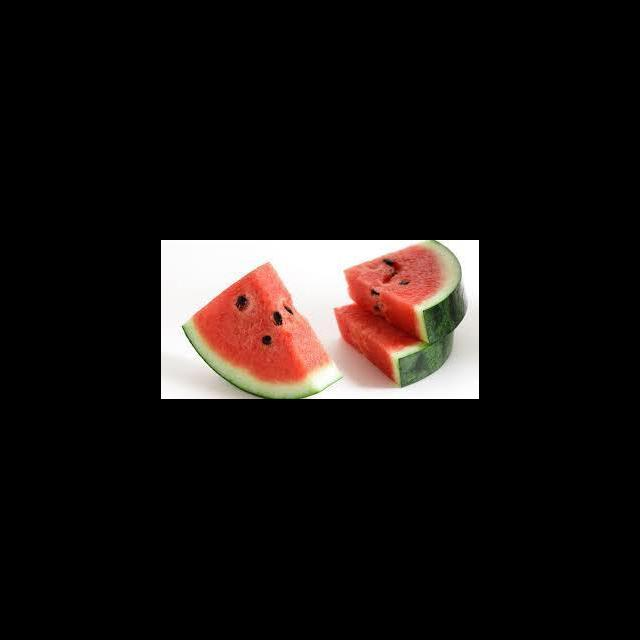watermelon: (182, 262, 344, 399), (343, 240, 469, 346), (334, 304, 454, 389)
